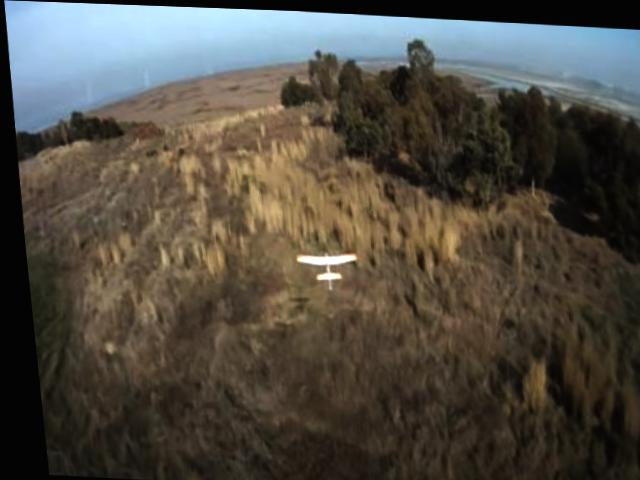uav: (284, 236, 362, 297)
